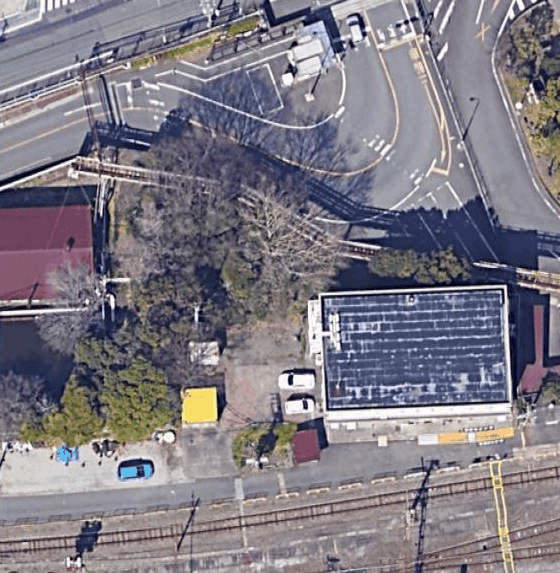flatroof: (313, 280, 517, 420)
